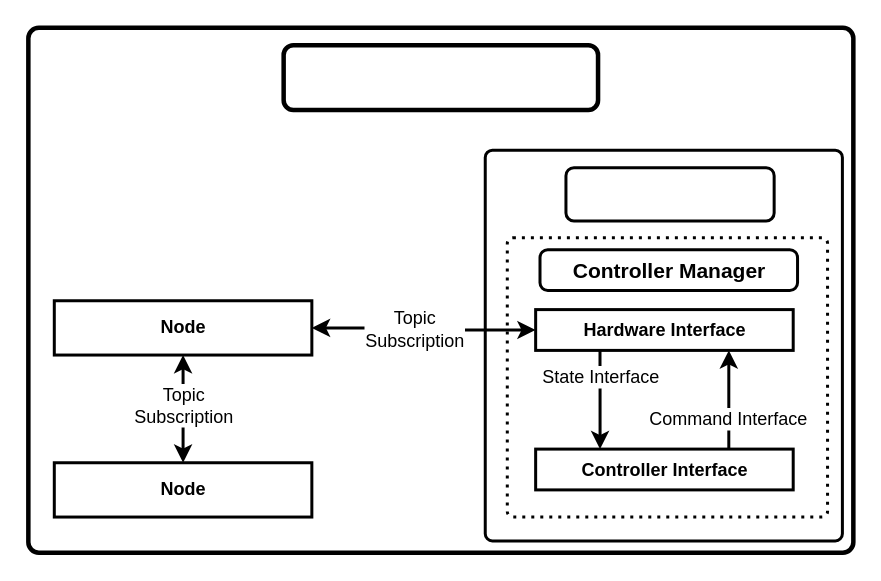
Some shapes in this 881 by 581 pixel diagram are drawn without their labels. The centre of each missing label's shape, as x and y in pixels:
"ROS2" belongs at point 440,76.
"ROS2 Control" belongs at point 669,193.
